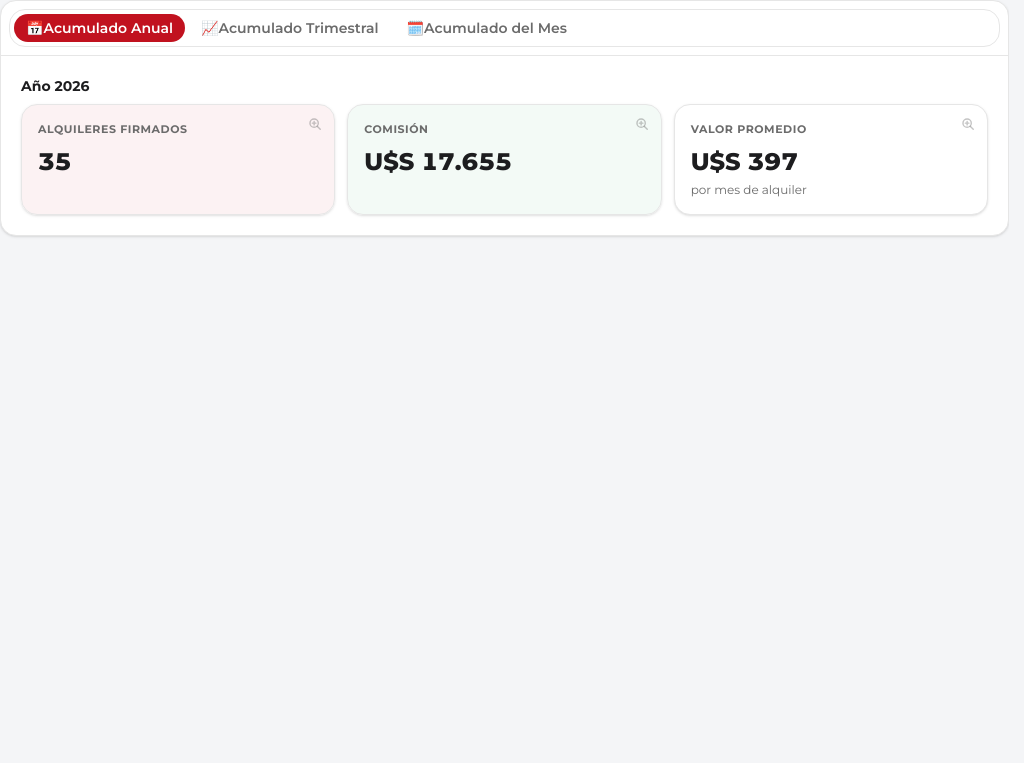
Test: Alquileres — la planilla de Vacker › elegir un mes en el cuadro muestra las tarjetas de ese mes
Step 1. Click the button "🗓️ Acumulado del Mes" → click(487, 28), box [394,14,579,42]
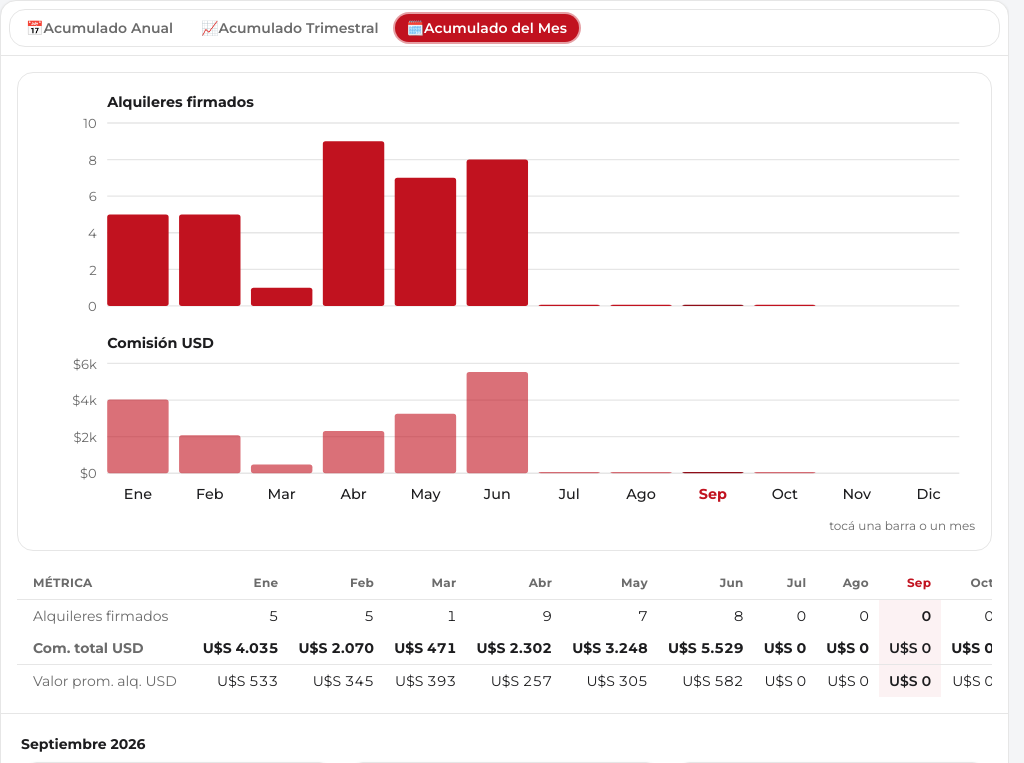
Step 2. Click the button "Abr" → click(540, 583), box [529,575,552,591]
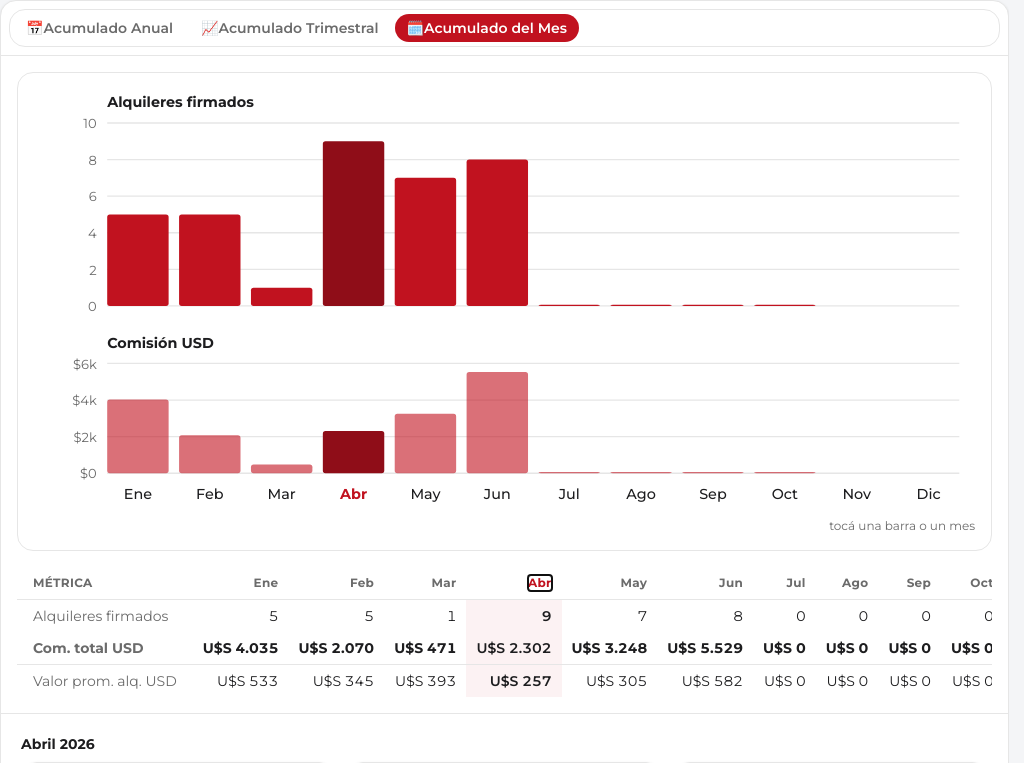
Expected: the text "Abril 2026" is shown, [21,735,95,753]
